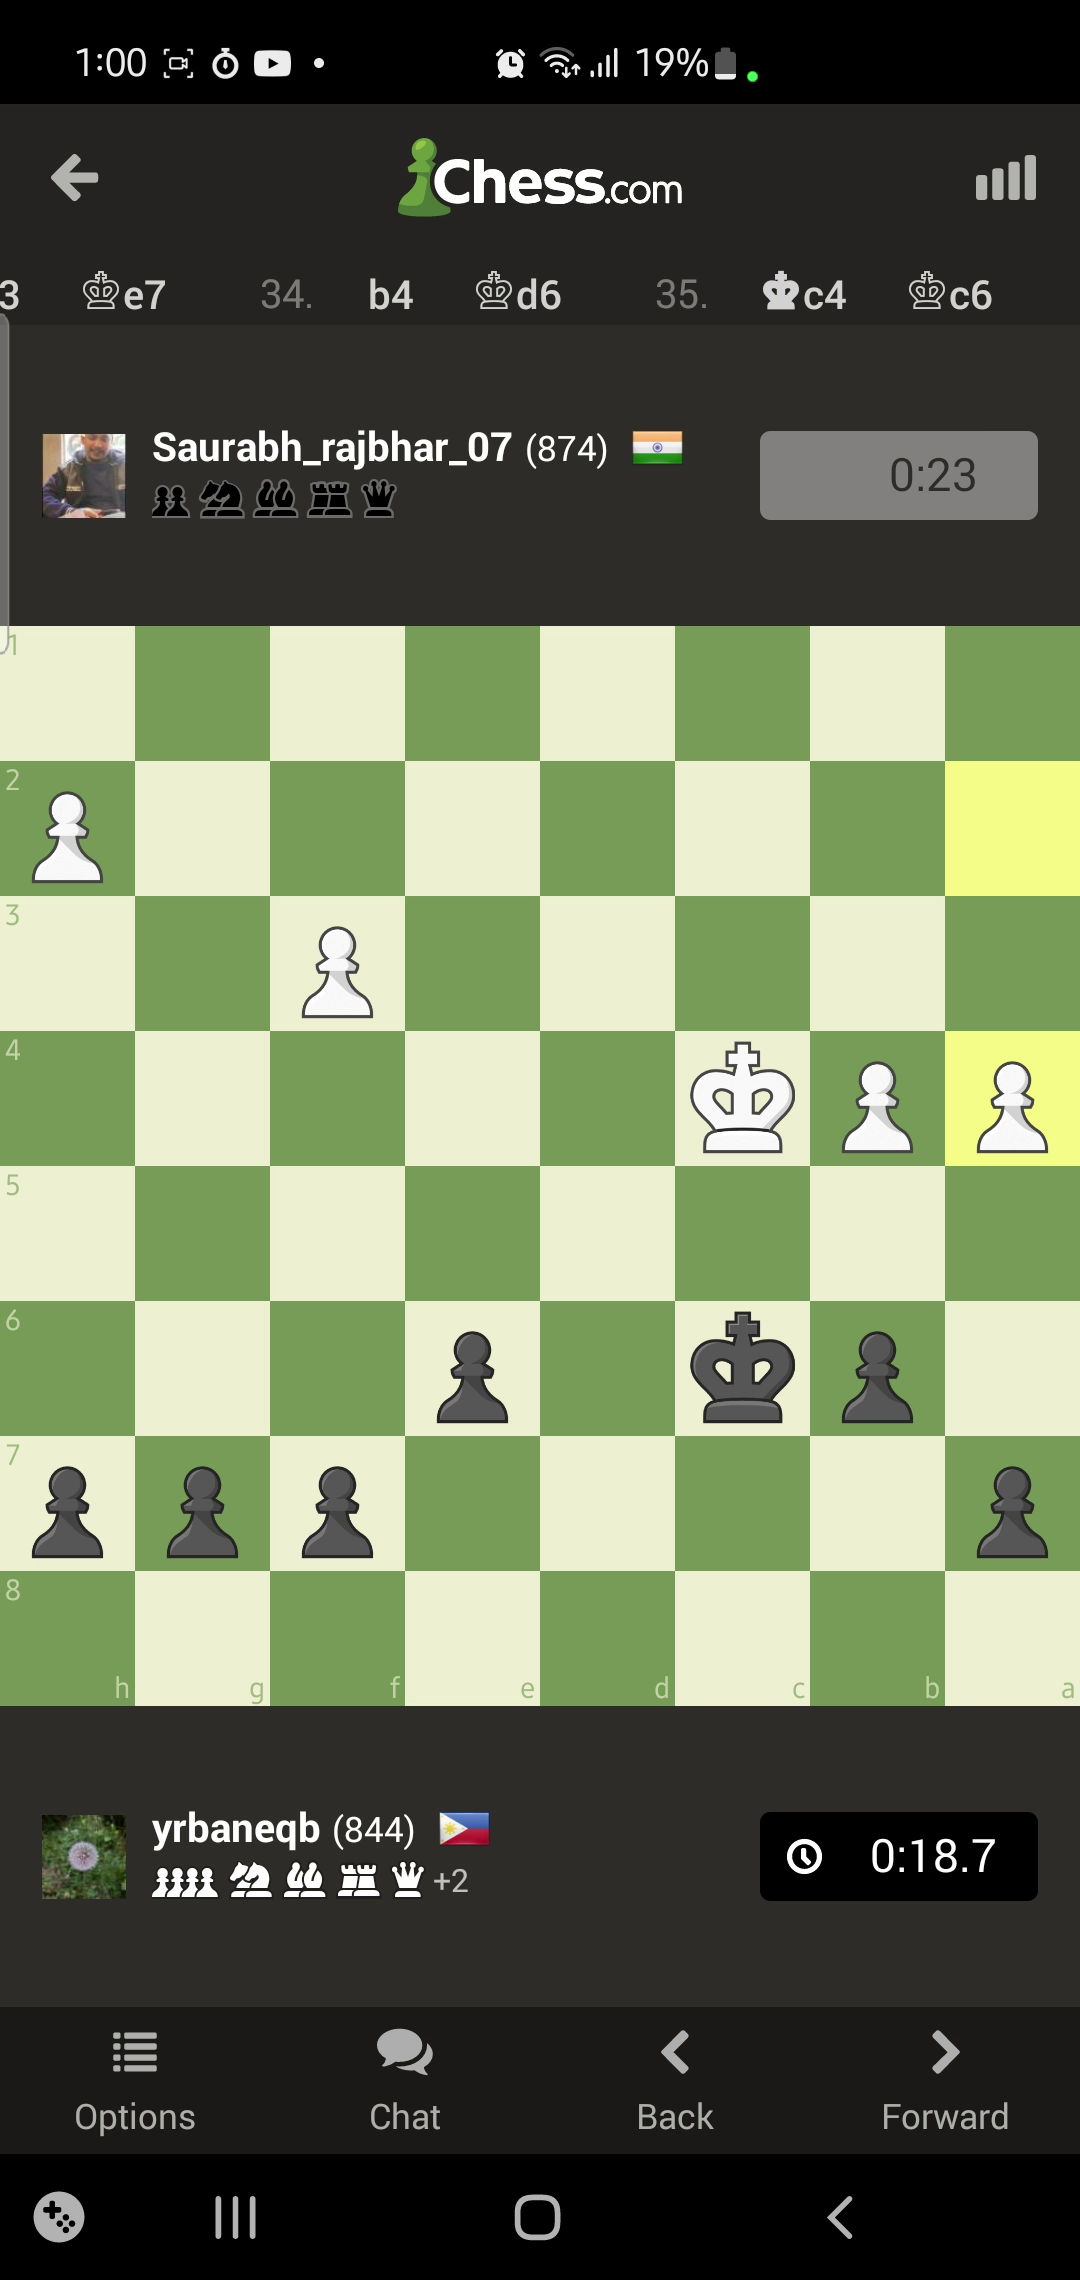king: (693, 1309, 797, 1426), (692, 1041, 794, 1152)
